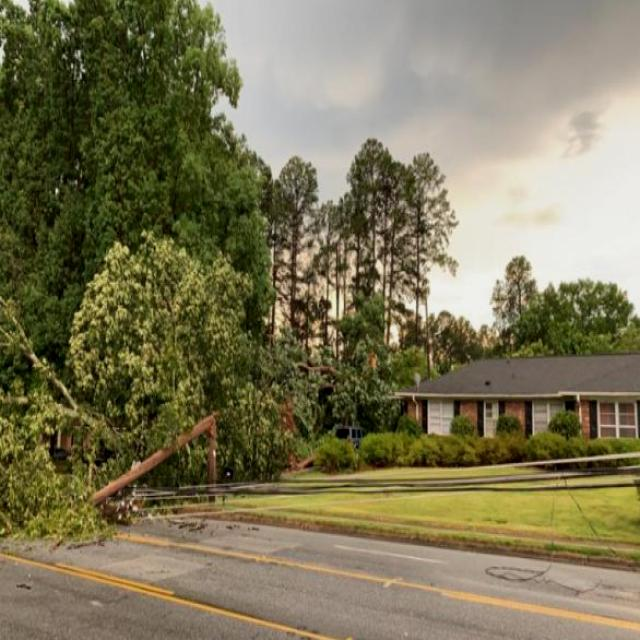fallen_object: (0, 292, 227, 547)
